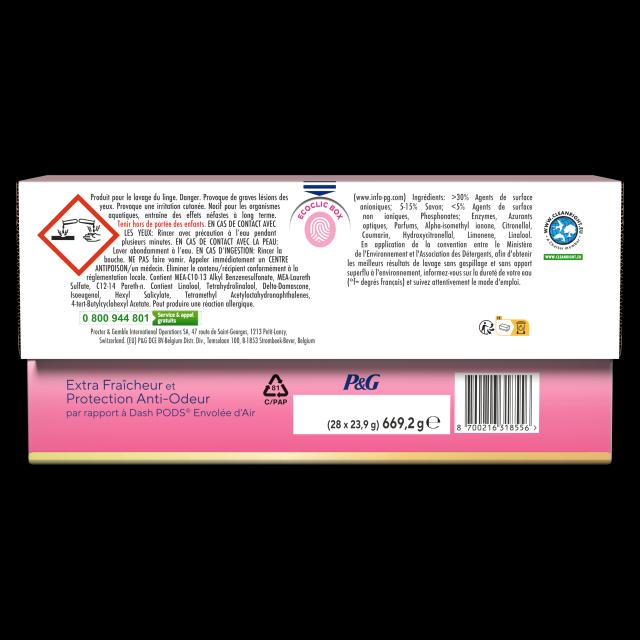GHS_Symbol_CORROSION: (36, 194, 120, 276)
